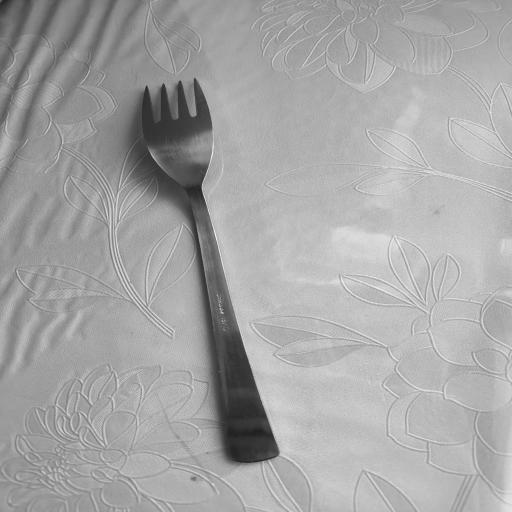fork: (130, 76, 286, 468)
